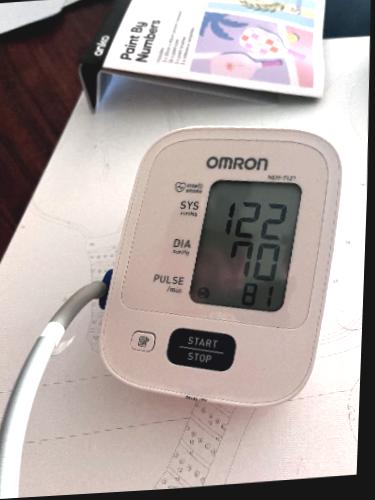bpm: (184, 169, 306, 316)
